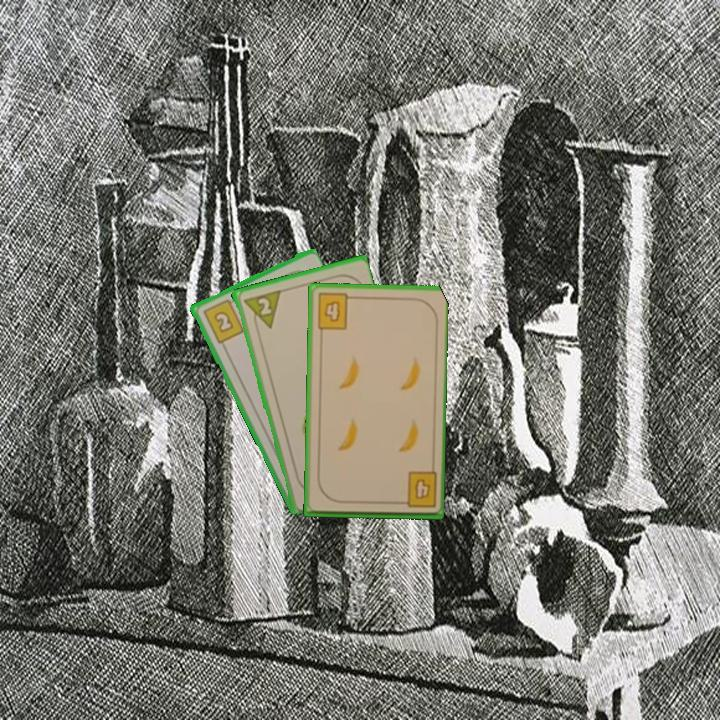2b: (199, 295, 247, 346)
2p: (239, 286, 283, 334)
4b: (394, 469, 439, 511), (314, 290, 357, 332)
